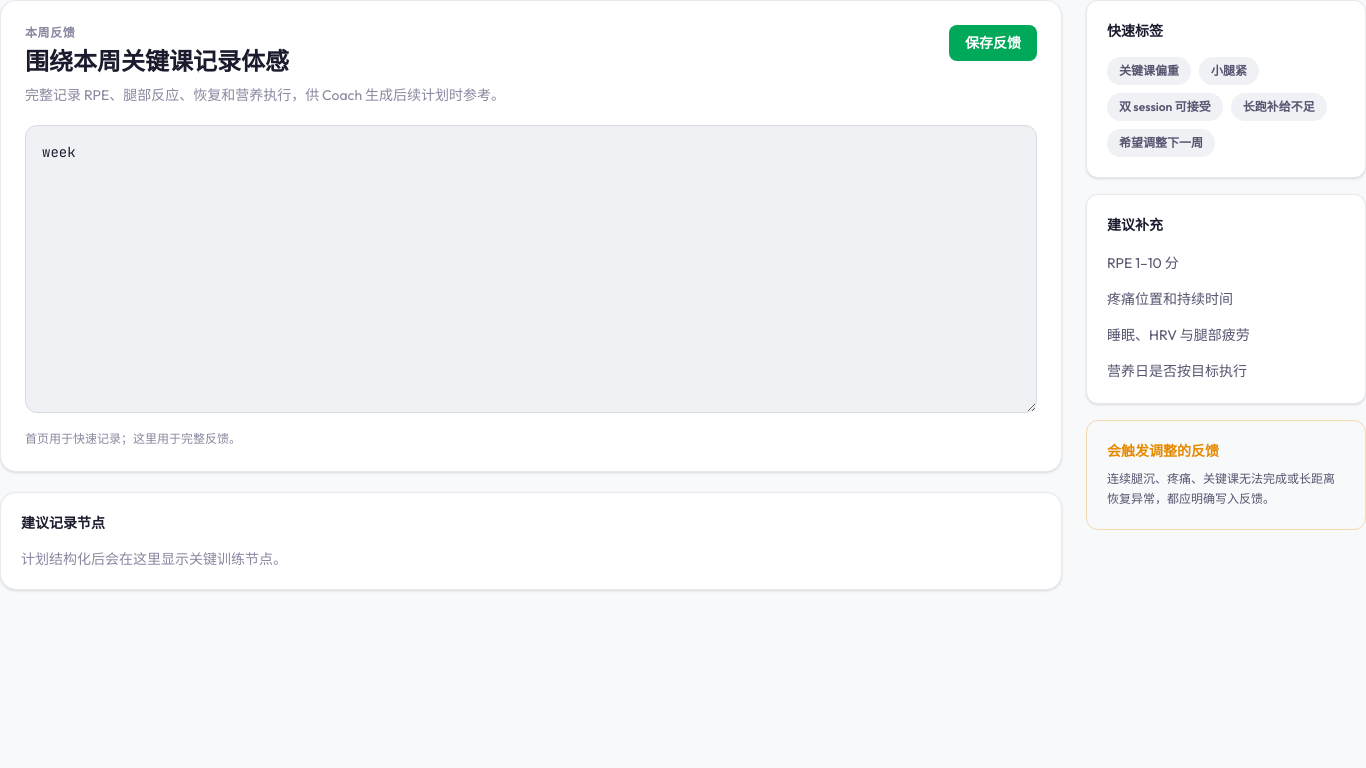
Test case: WeeklyFeedbackTab › reports successful saves
Click the button "保存反馈": (993, 43) top-left (949, 25), bottom-right (1037, 61)
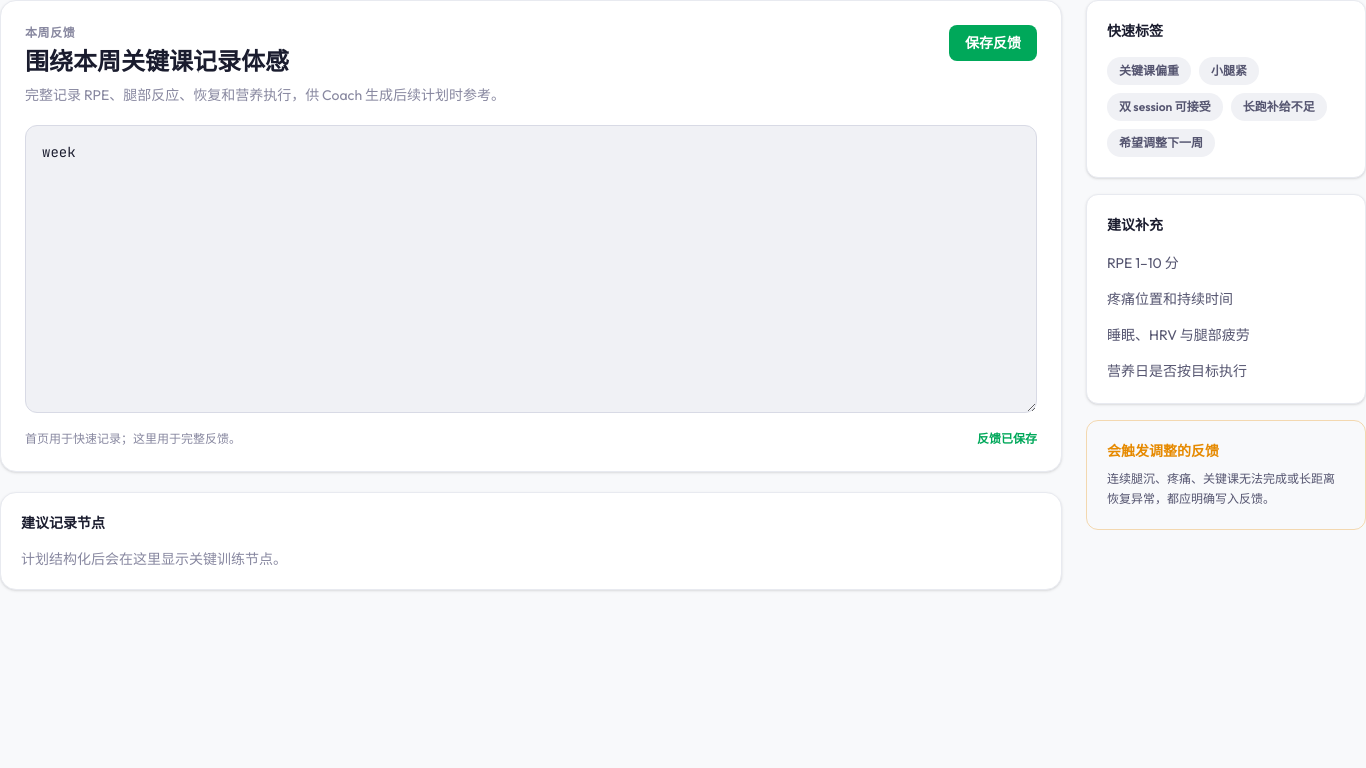
Now the text "反馈已保存" is shown, box top-left (977, 431), bottom-right (1037, 447)
